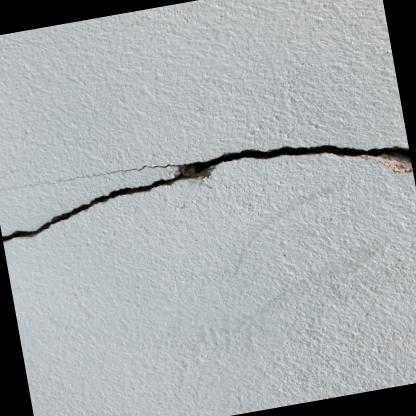crack: (1, 143, 413, 241)
